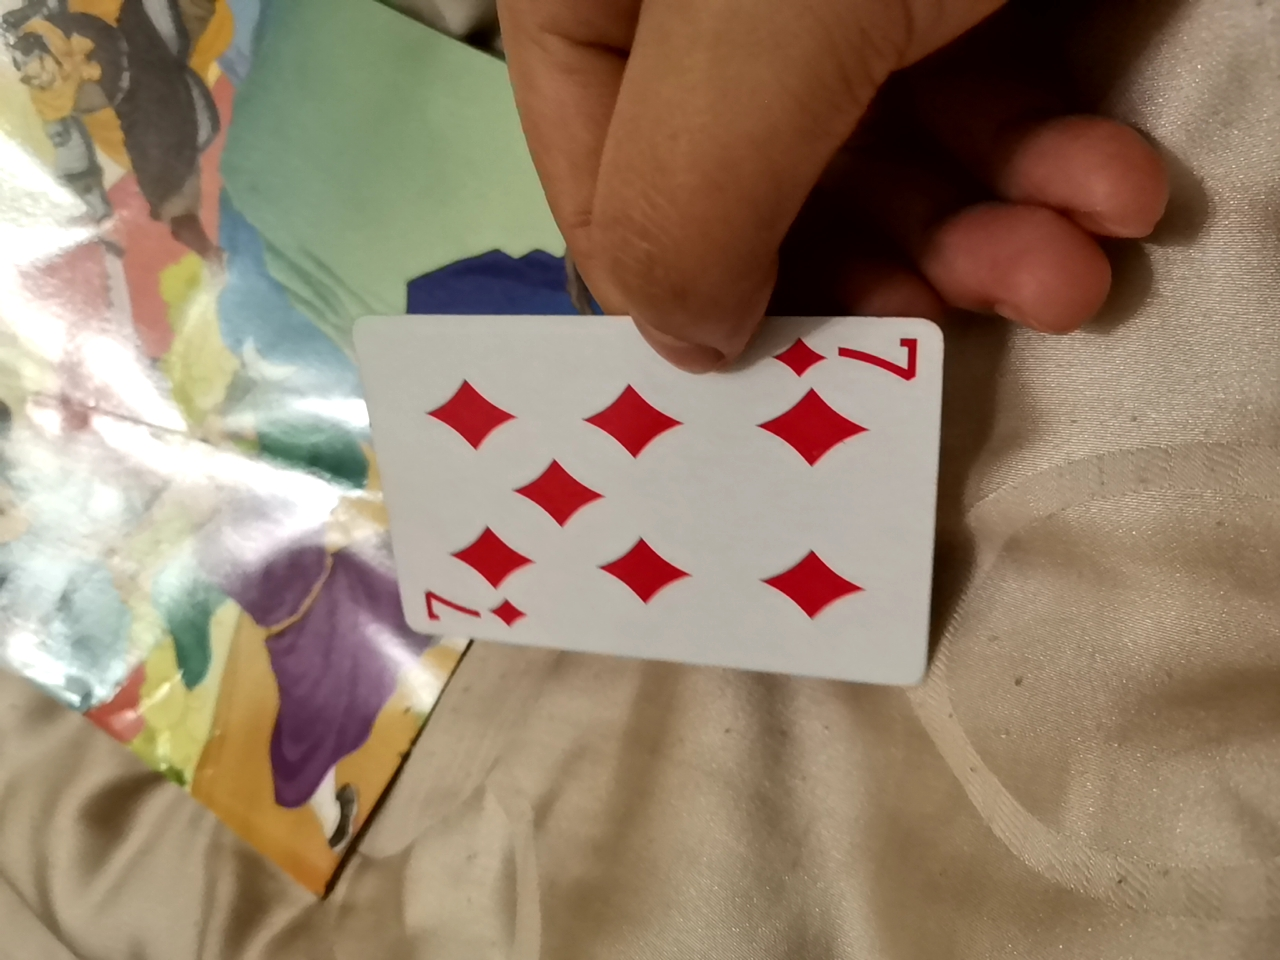fk 7: (355, 315, 970, 711)
